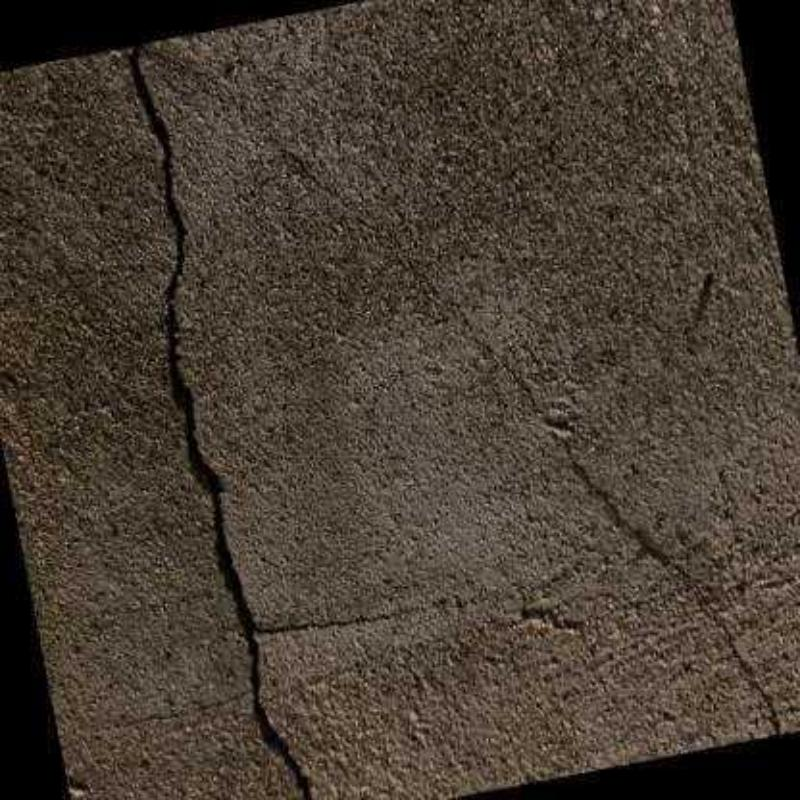pothole: (124, 42, 323, 798), (260, 606, 421, 633)
